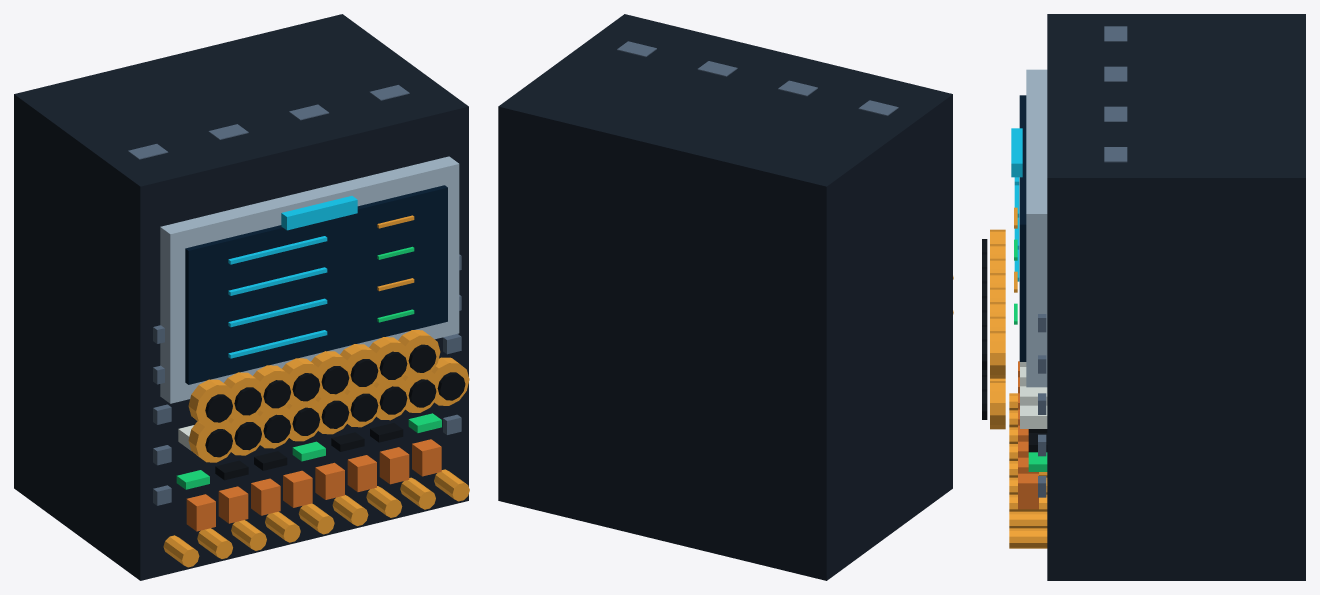
Rendered from 43_L88_OxygenGenerationProcessPLC.fbx.
3 views of the same model, side by side, from view 1: azimuth 30°, elevation 25°; view 2: azimuth 150°, elevation 25°; view 3: azimuth 270°, elevation 25° (orthographic). The views are drawn at different scales.
Parts seen in each view (by area): view 1: L87_OxygenGenerationProcessPLC_Part_0000, L87_OxygenGenerationProcessPLC_Part_0002, L87_OxygenGenerationProcessPLC_Part_0001, L87_OxygenGenerationProcessPLC_Part_0009, L87_OxygenGenerationProcessPLC_Part_0004, L87_OxygenGenerationProcessPLC_Part_0008, L87_OxygenGenerationProcessPLC_Part_0003, L87_OxygenGenerationProcessPLC_Part_0007, L87_OxygenGenerationProcessPLC_Part_0005, L87_OxygenGenerationProcessPLC_Part_0010, L87_OxygenGenerationProcessPLC_Part_0029, L87_OxygenGenerationProcessPLC_Part_0011 (+30 smaller); view 2: L87_OxygenGenerationProcessPLC_Part_0000, L87_OxygenGenerationProcessPLC_Part_0008; view 3: L87_OxygenGenerationProcessPLC_Part_0000, L87_OxygenGenerationProcessPLC_Part_0001, L87_OxygenGenerationProcessPLC_Part_0004, L87_OxygenGenerationProcessPLC_Part_0008, L87_OxygenGenerationProcessPLC_Part_0002, L87_OxygenGenerationProcessPLC_Part_0009, L87_OxygenGenerationProcessPLC_Part_0006, L87_OxygenGenerationProcessPLC_Part_0027, L87_OxygenGenerationProcessPLC_Part_0043, L87_OxygenGenerationProcessPLC_Part_0010, L87_OxygenGenerationProcessPLC_Part_0005, L87_OxygenGenerationProcessPLC_Part_0003.
Boxes of the visible parts, box(x1,y1,x2,y2) form: L87_OxygenGenerationProcessPLC_Part_0000: box(14, 14, 468, 580); L87_OxygenGenerationProcessPLC_Part_0002: box(185, 185, 447, 384); L87_OxygenGenerationProcessPLC_Part_0001: box(160, 156, 459, 403); L87_OxygenGenerationProcessPLC_Part_0009: box(186, 439, 441, 531); L87_OxygenGenerationProcessPLC_Part_0004: box(163, 215, 469, 567); L87_OxygenGenerationProcessPLC_Part_0008: box(128, 85, 461, 505); L87_OxygenGenerationProcessPLC_Part_0003: box(228, 236, 327, 358); L87_OxygenGenerationProcessPLC_Part_0007: box(215, 423, 403, 480); L87_OxygenGenerationProcessPLC_Part_0005: box(176, 246, 441, 489); L87_OxygenGenerationProcessPLC_Part_0010: box(281, 196, 357, 230); L87_OxygenGenerationProcessPLC_Part_0029: box(188, 379, 235, 427); L87_OxygenGenerationProcessPLC_Part_0011: box(188, 420, 235, 462); L87_OxygenGenerationProcessPLC_Part_0000: box(498, 14, 952, 580); L87_OxygenGenerationProcessPLC_Part_0008: box(617, 41, 898, 115); L87_OxygenGenerationProcessPLC_Part_0000: box(1047, 14, 1305, 580); L87_OxygenGenerationProcessPLC_Part_0001: box(1026, 69, 1047, 387); L87_OxygenGenerationProcessPLC_Part_0004: box(1009, 207, 1047, 548); L87_OxygenGenerationProcessPLC_Part_0008: box(1038, 26, 1127, 497); L87_OxygenGenerationProcessPLC_Part_0002: box(1019, 95, 1026, 361); L87_OxygenGenerationProcessPLC_Part_0009: box(1018, 361, 1038, 509); L87_OxygenGenerationProcessPLC_Part_0006: box(1020, 362, 1047, 428); L87_OxygenGenerationProcessPLC_Part_0027: box(990, 381, 1005, 429); L87_OxygenGenerationProcessPLC_Part_0043: box(990, 331, 1005, 378); L87_OxygenGenerationProcessPLC_Part_0010: box(1011, 128, 1022, 177); L87_OxygenGenerationProcessPLC_Part_0005: box(1014, 239, 1047, 471); L87_OxygenGenerationProcessPLC_Part_0003: box(1014, 177, 1019, 281).
Bounding box in the file's own units: 104 × 120 × 86.88.
